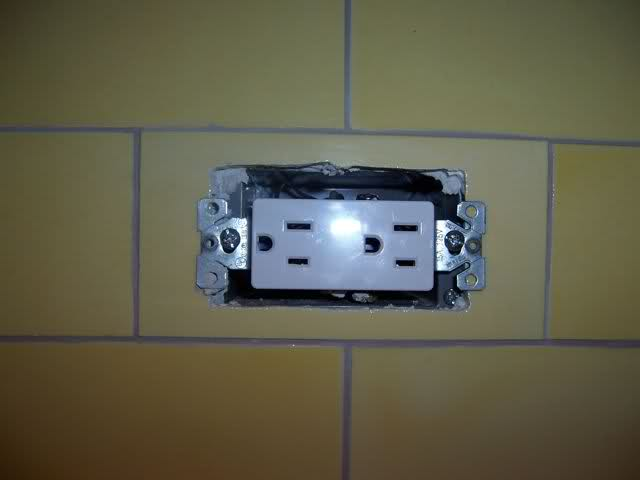outlet: (361, 214, 425, 274), (253, 216, 314, 270)
